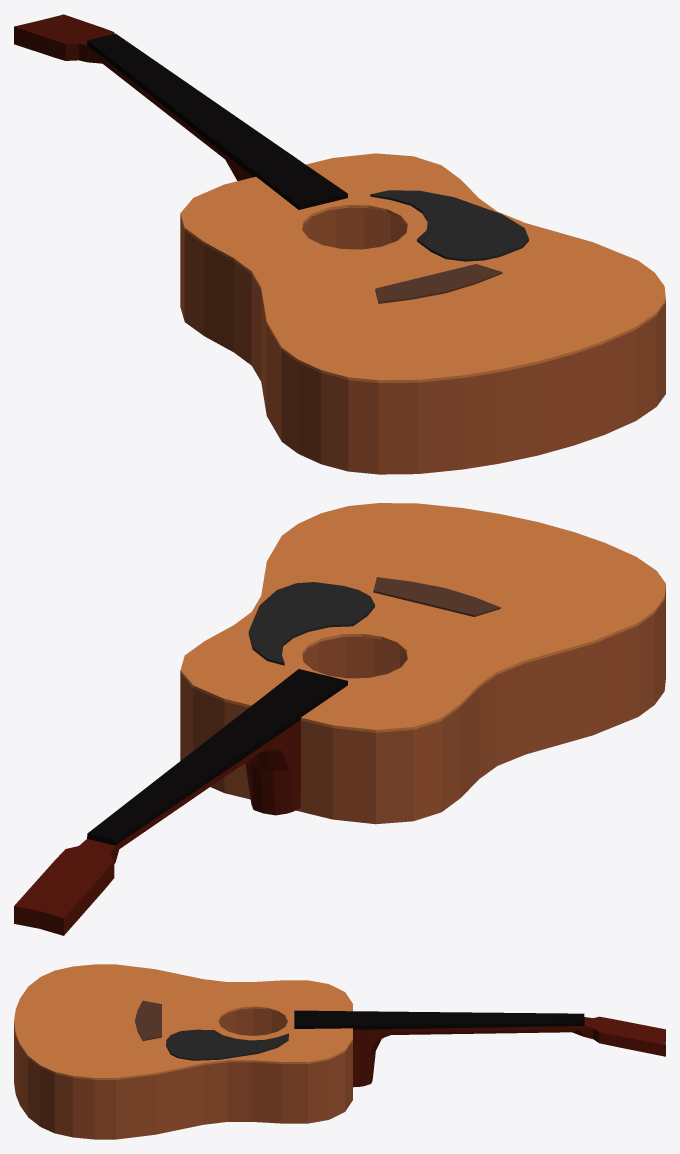
The model's file is guitar.glb.
3 views of the same model, one above another, from view 1: azimuth 30°, elevation 25°; view 2: azimuth 150°, elevation 25°; view 3: azimuth 270°, elevation 25° (orthographic). The views are drawn at different scales.
Visible parts, largest first — view 1: body, neck, pickguard, Cylinder, bridge; view 2: body, neck, pickguard, Cylinder, bridge; view 3: body, neck, pickguard, Cylinder, bridge.
Boxes of the visible parts, left/top/right/bottom form: body: left=180, top=153, right=665, bottom=474; neck: left=14, top=14, right=347, bottom=209; pickguard: left=370, top=190, right=528, bottom=261; Cylinder: left=302, top=207, right=407, bottom=249; bridge: left=375, top=264, right=502, bottom=303; body: left=180, top=503, right=665, bottom=824; neck: left=14, top=669, right=347, bottom=935; pickguard: left=248, top=582, right=374, bottom=665; Cylinder: left=302, top=636, right=407, bottom=678; bridge: left=373, top=577, right=500, bottom=616; body: left=14, top=964, right=352, bottom=1139; neck: left=294, top=1010, right=665, bottom=1087; pickguard: left=166, top=1029, right=288, bottom=1060; Cylinder: left=219, top=1008, right=287, bottom=1035; bridge: left=135, top=1000, right=161, bottom=1040.
Bounding box in the file's own units: 7.92 × 2.1 × 19.22.
